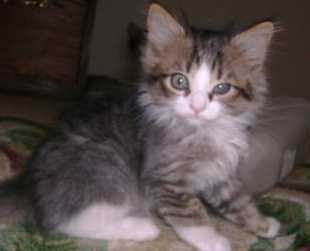Cat: (28, 3, 273, 246)
